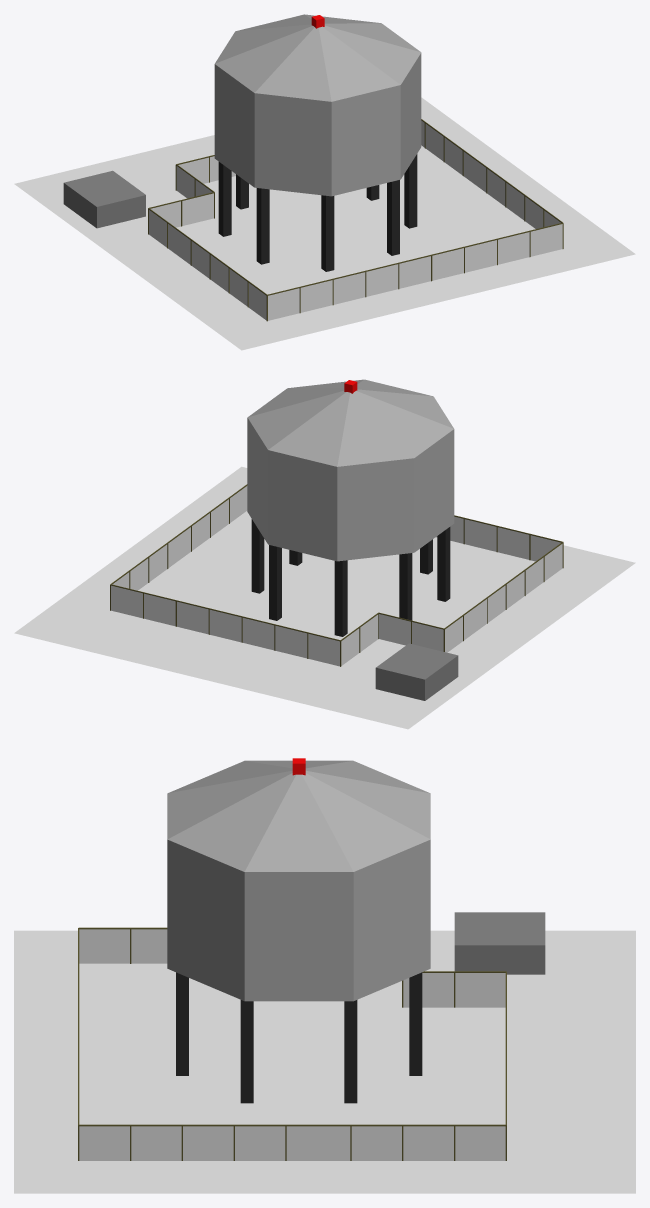
The model's file is com02.glb.
3 renders of one model, top to bottom at view 1: azimuth 30°, elevation 25°; view 2: azimuth 150°, elevation 25°; view 3: azimuth 270°, elevation 25°, orthographic. The views are drawn at different scales.
Visible parts, largest first — view 1: Plane, Cylinder, Plane.001, Cube.042, Cube.039, Cube.036, Cube.035, Cube.038, Cube.037, Bar.001; view 2: Plane, Cylinder, Plane.001, Cube.042, Cube.040, Cube.036, Cube.041, Cube.035, Cube.034; view 3: Plane, Cylinder, Plane.001, Cube.042, Cube.037, Cube.034, Cube.041, Cube.038, Bar.000.
Part boxes in pixels (bbox=[...]): Plane: bbox=[14, 97, 635, 350]; Cylinder: bbox=[214, 14, 421, 196]; Plane.001: bbox=[149, 120, 562, 320]; Cube.042: bbox=[63, 170, 145, 228]; Cube.039: bbox=[321, 195, 334, 271]; Cube.036: bbox=[256, 188, 269, 264]; Cube.035: bbox=[218, 162, 231, 236]; Cube.038: bbox=[387, 180, 399, 255]; Cube.037: bbox=[404, 154, 417, 228]; Bar.001: bbox=[267, 222, 562, 295]; Plane: bbox=[14, 466, 635, 729]; Cylinder: bbox=[247, 379, 454, 561]; Plane.001: bbox=[111, 486, 562, 666]; Cube.042: bbox=[375, 643, 458, 700]; Cube.040: bbox=[334, 560, 347, 636]; Cube.036: bbox=[437, 527, 450, 601]; Cube.041: bbox=[269, 545, 281, 620]; Cube.035: bbox=[399, 553, 412, 620]; Cube.034: bbox=[251, 519, 264, 593]; Plane: bbox=[14, 930, 635, 1193]; Cylinder: bbox=[167, 760, 430, 1001]; Plane.001: bbox=[79, 929, 505, 1160]; Cube.042: bbox=[454, 912, 545, 974]; Cube.037: bbox=[240, 1000, 253, 1103]; Cube.034: bbox=[344, 1000, 357, 1103]; Cube.041: bbox=[409, 972, 422, 1075]; Cube.038: bbox=[176, 972, 188, 1075]; Bar.000: bbox=[78, 1124, 506, 1126].
Bounding box in the file's own units: 48.01 × 25.22 × 48.
